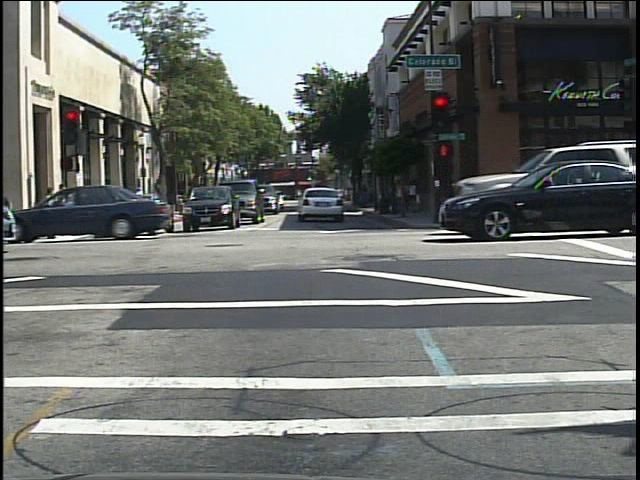person: (86, 187, 101, 229), (172, 183, 188, 218), (132, 183, 147, 215)
